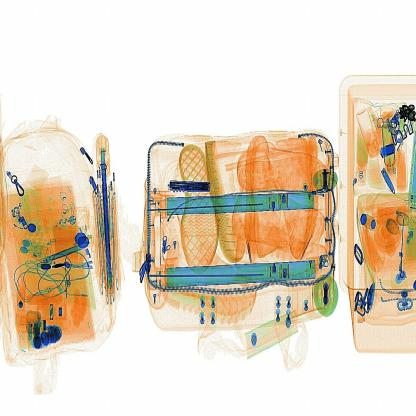scissors: (165, 178, 216, 196)
